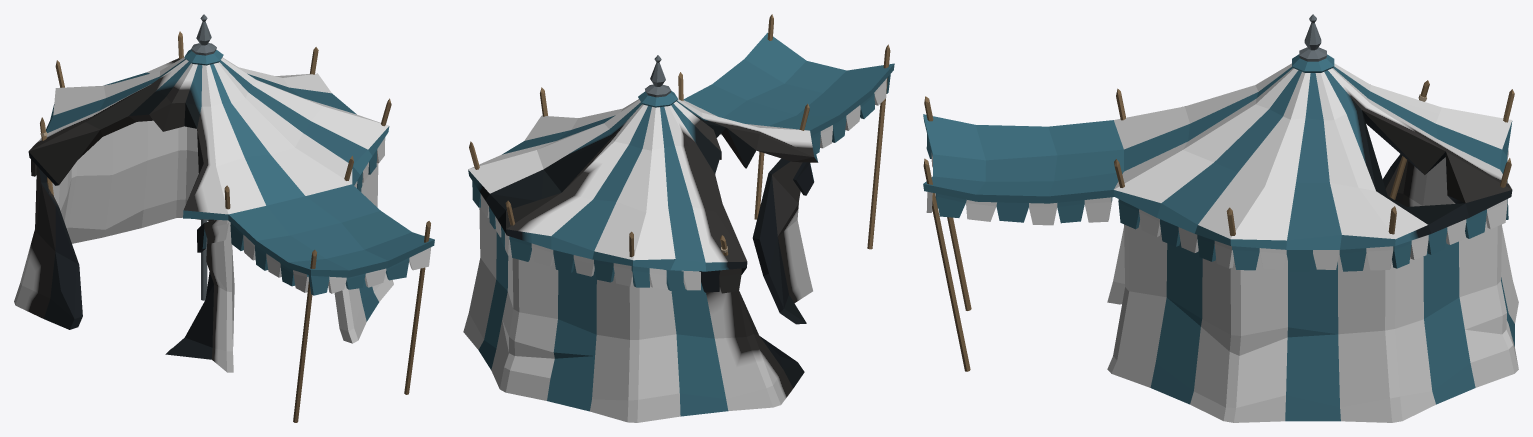
Rendered from bld_tent_round_burnt.gltf.
The picture shows the model from 3 angles, left to right: view 1: azimuth 30°, elevation 25°; view 2: azimuth 150°, elevation 25°; view 3: azimuth 270°, elevation 25°; orthographic projection. The views are drawn at different scales.
Visible parts, largest first — view 1: bld_tent_round_burnt; view 2: bld_tent_round_burnt; view 3: bld_tent_round_burnt.
Part boxes in pixels (box(x1,y1,x2,y2)): bld_tent_round_burnt: box(14, 14, 434, 422); bld_tent_round_burnt: box(463, 14, 894, 422); bld_tent_round_burnt: box(923, 14, 1518, 422).
Size of the model in its own units: 5.35 by 4.73 by 7.75.
1 material, 1 textured.
